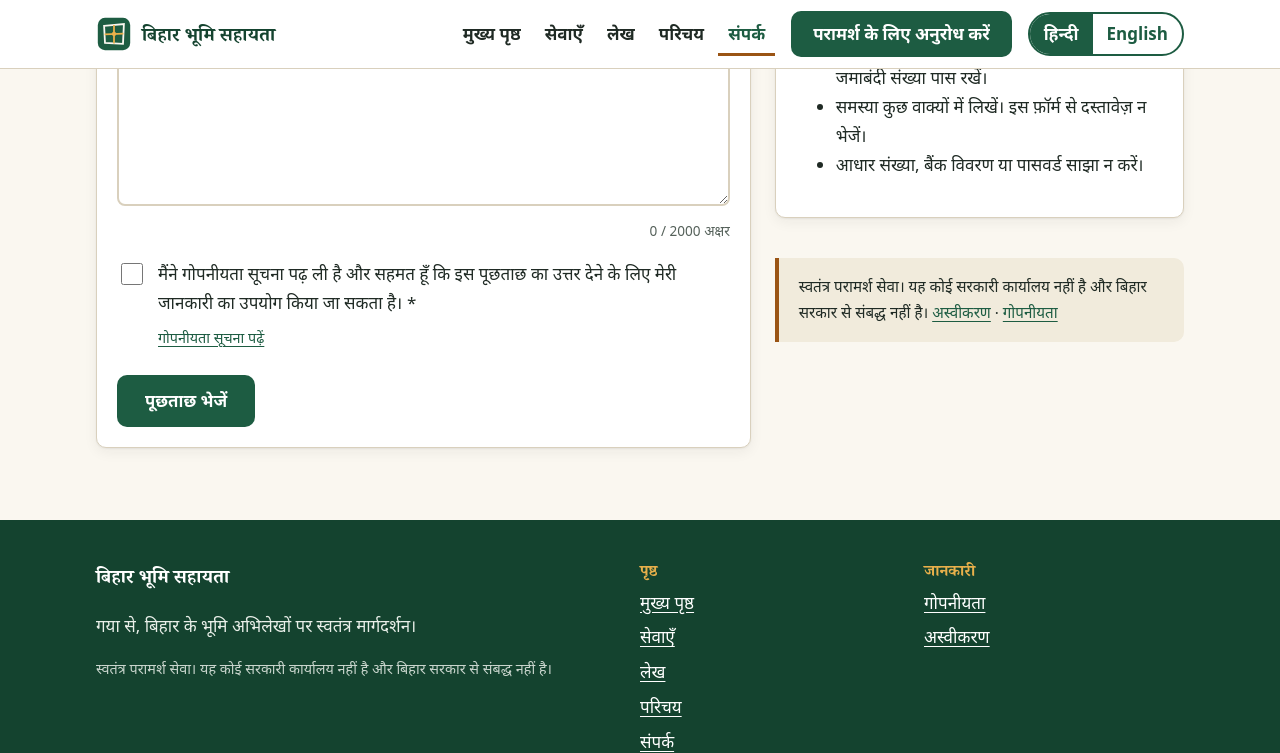
enquiry form › shows errors in Hindi on the Hindi page
The image size is (1280, 753).
(page scrolled)
Step 1. Click the button "पूछताछ भेजें" → (186,401), box [117, 375, 255, 427]
(page scrolled)
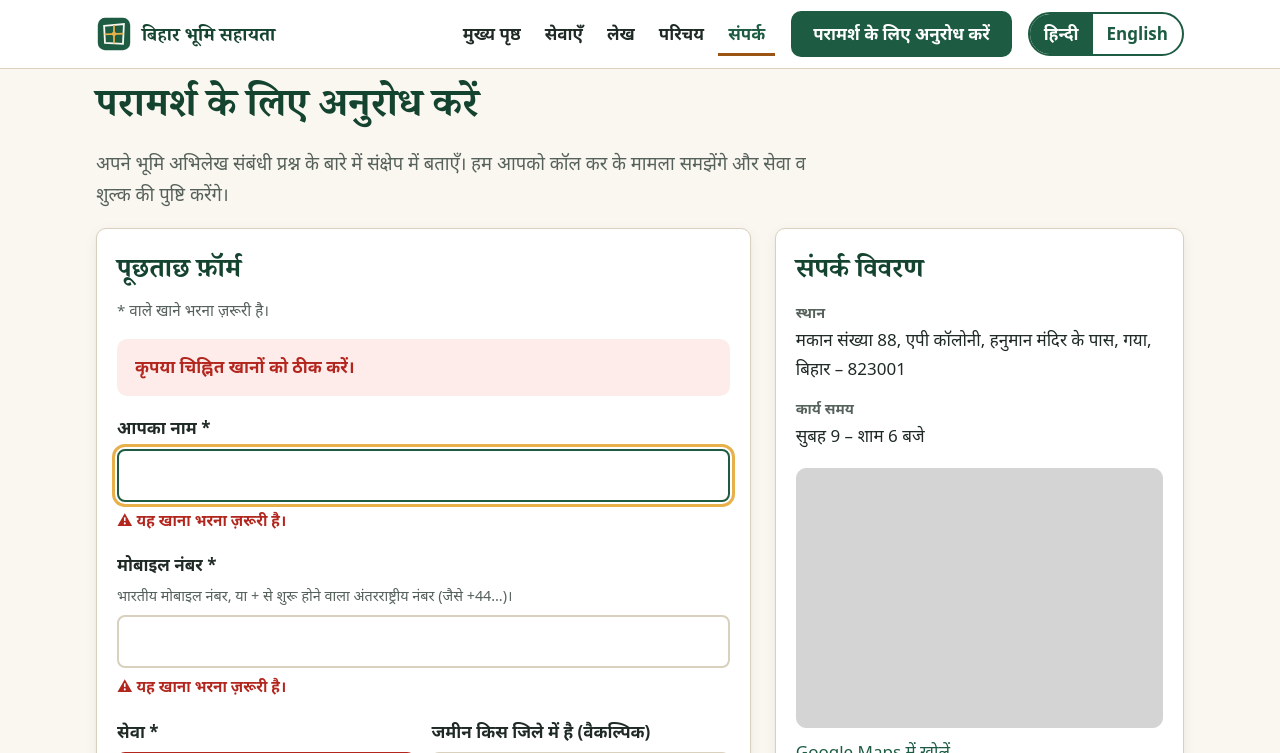
Expected: the message reads "कृपया चिह्नित खानों को ठीक करें।", [135, 355, 354, 378]
Expected: the text "यह खाना भरना ज़रूरी है।" below "आपका नाम" is shown, [136, 510, 286, 530]
